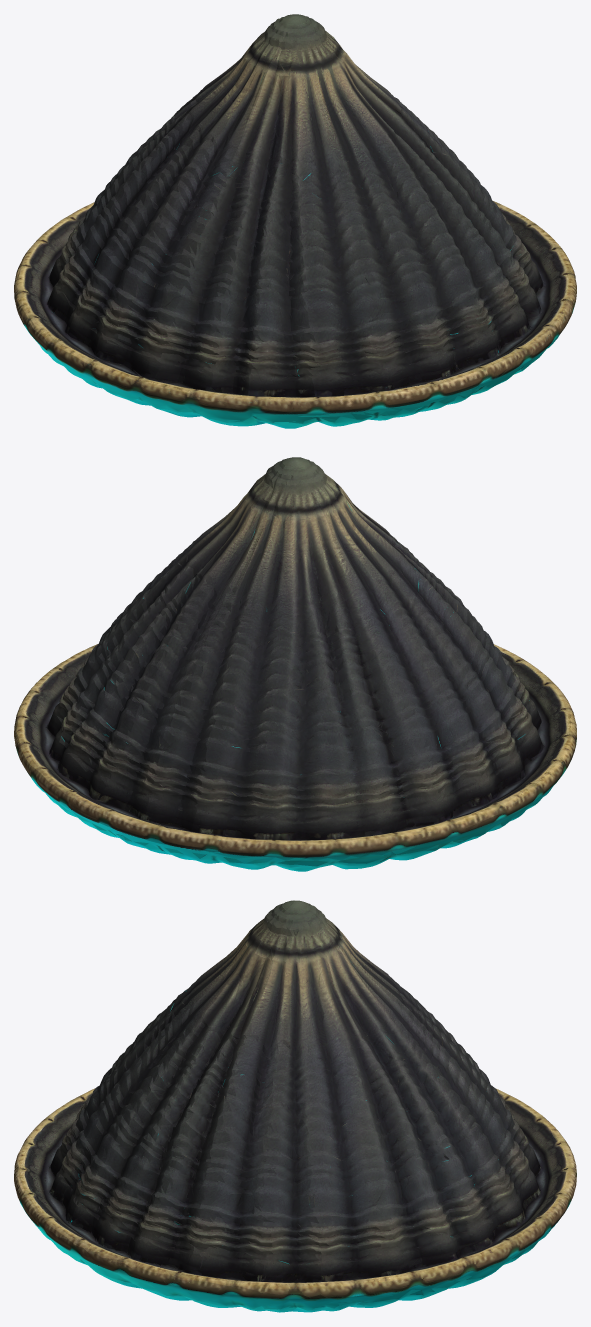
Rendered from anchor_limpet.glb.
3 renders of one model, top to bottom at view 1: azimuth 30°, elevation 25°; view 2: azimuth 150°, elevation 25°; view 3: azimuth 270°, elevation 25°, orthographic.
Bounding box in the file's own units: 1.9 × 1.34 × 1.9.
Materials: 1 (1 with a texture image).
